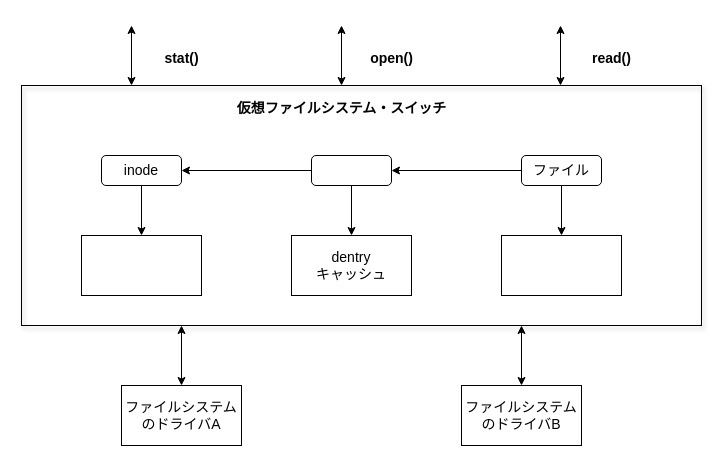
This 725x463 diagram has some shape labels left out. The shapes that lost their labels are listed below. From the top down, each one's centre as x and y in pixels, then its label:
(351,170): dentry
(141,265): inode キャッシュ
(561,265): page キャッシュ
